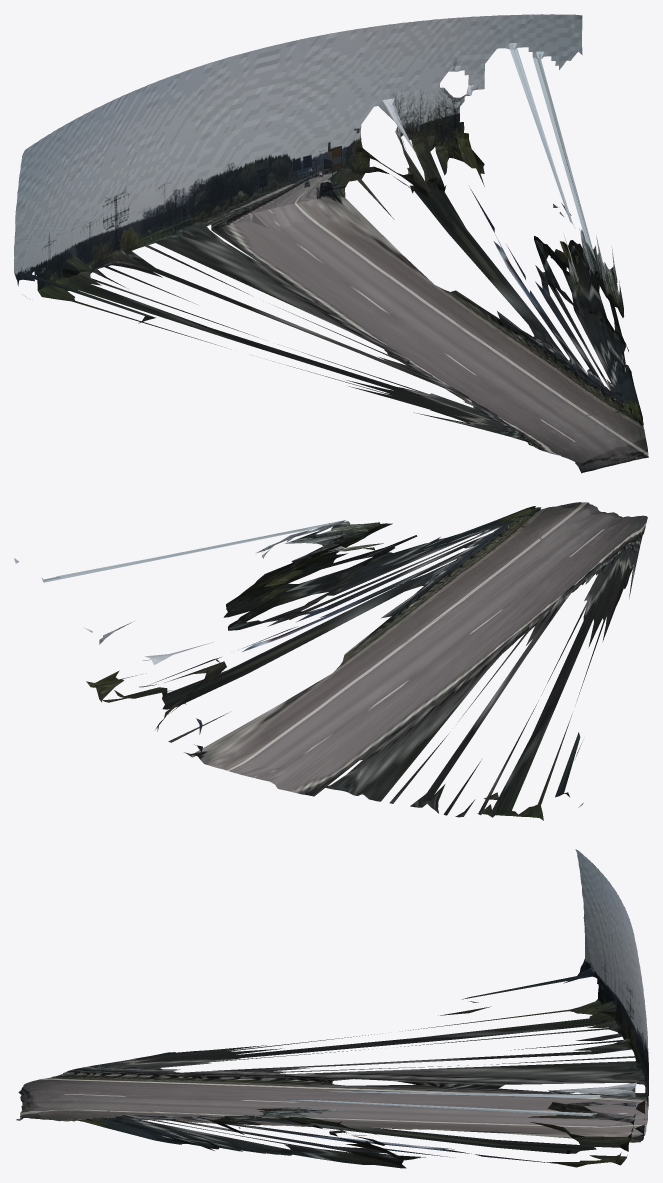
3 renders of one model, top to bottom at view 1: azimuth 30°, elevation 25°; view 2: azimuth 150°, elevation 25°; view 3: azimuth 270°, elevation 25°, orthographic. The views are drawn at different scales.
Visible parts, largest first — view 1: defaultobject; view 2: defaultobject; view 3: defaultobject.
Part boxes in pixels (x1,y1,x2,y2): defaultobject: (14,14,648,473); defaultobject: (14,502,647,820); defaultobject: (16,849,648,1168).
Size of the model in its own units: 41 by 12.26 by 44.71.
1 material, 1 textured.
